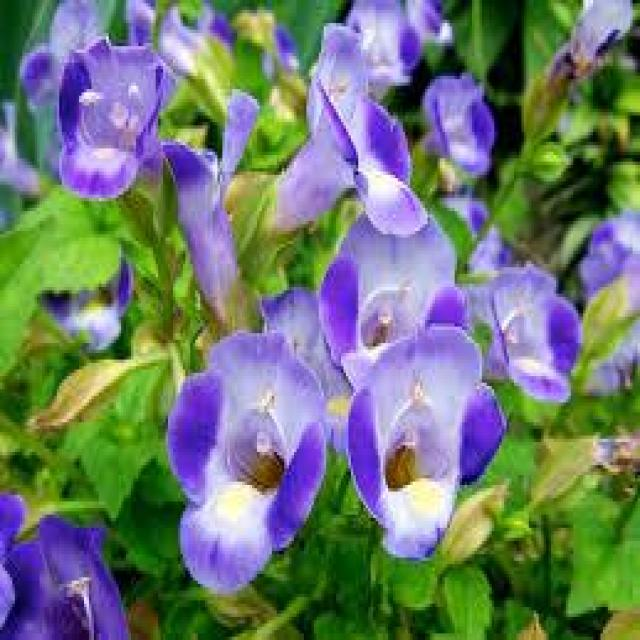organic waste: (153, 305, 363, 589), (247, 32, 437, 266), (348, 322, 516, 556), (302, 203, 484, 378), (153, 81, 272, 341), (50, 28, 186, 213), (471, 245, 577, 410), (11, 511, 137, 637), (431, 71, 493, 186)
